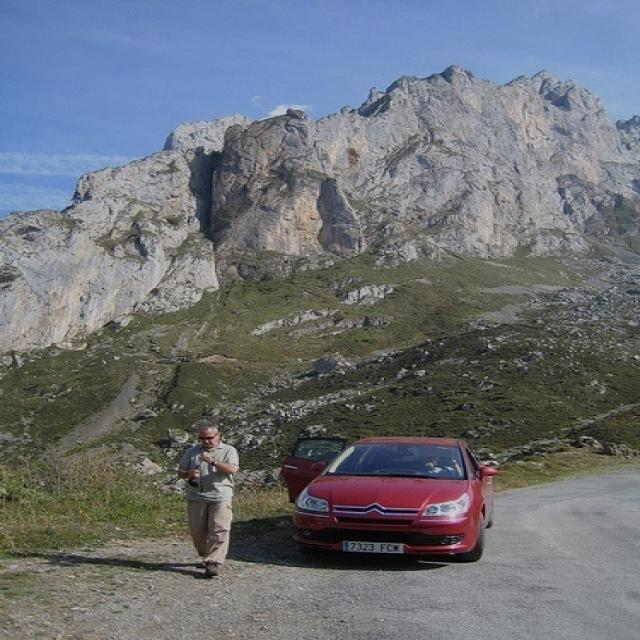non-fight: (172, 424, 241, 580)
